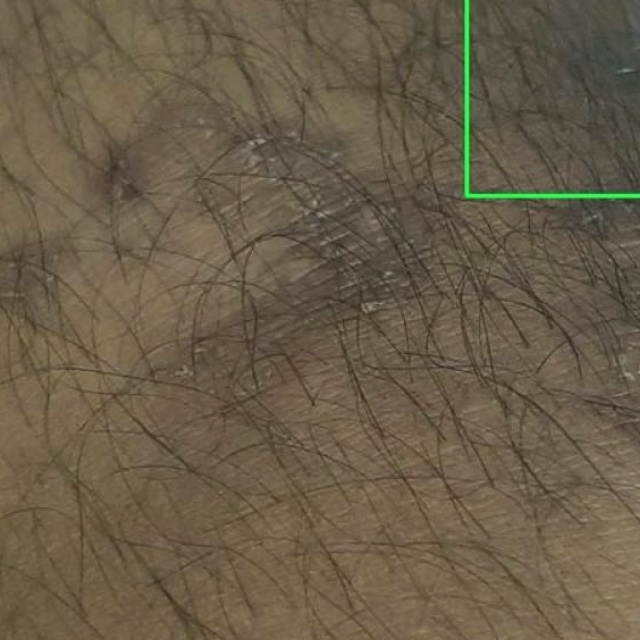Tinea Corporis: (467, 0, 639, 196)
